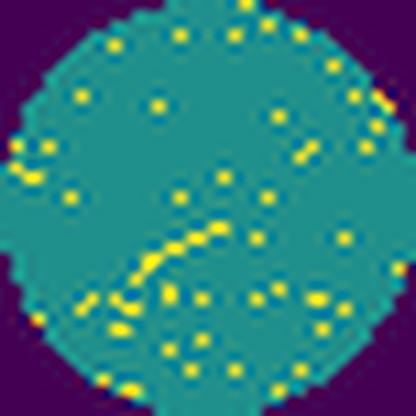Scratch: (123, 219, 237, 294)
